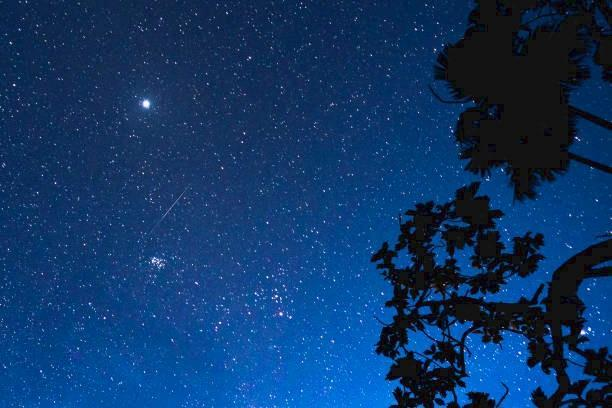meteorite: (138, 165, 197, 225)
